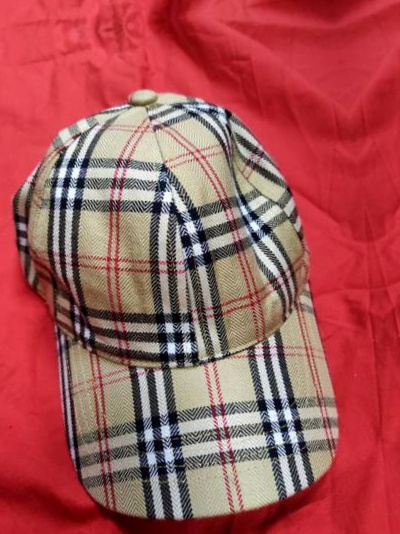Hat: (0, 37, 387, 534), (362, 0, 400, 492), (0, 0, 297, 14)
